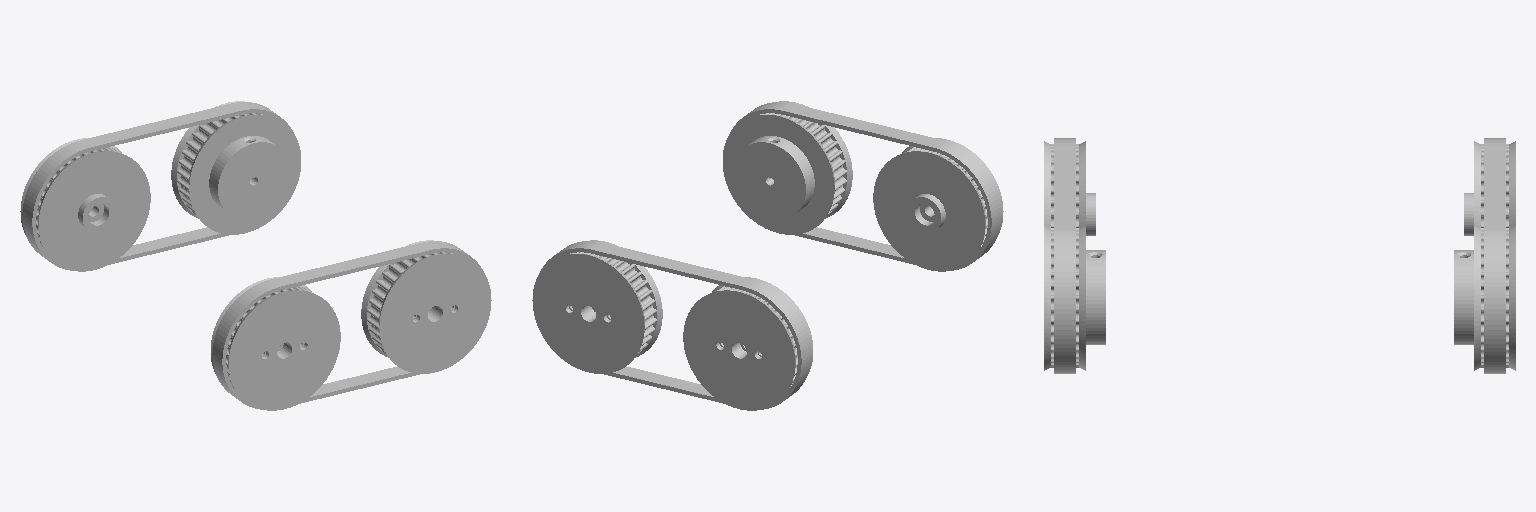
URDF robot description (road100):
<?xml version="1.0" ?>
<robot name="road100" xmlns:xacro="http://www.ros.org/wiki/xacro">

  <link name="base_footprint" />

  <link name="base_link">
    <inertial>
      <origin xyz="0.0 0.0 0.0" rpy="0 0 0"/>
      <mass value="2.9675633650363595"/>
      <inertia ixx="0.011642" iyy="0.035651" izz="0.038255" ixy="0.000148" iyz="-9.3e-05" ixz="0.000342"/>
    </inertial>
    <visual>
      <origin xyz="0 0 0" rpy="0 0 0"/>
      <geometry>
        <mesh filename="package://road100_description/meshes/base_link_lidar.stl" scale="0.001 0.001 0.001"/>
      </geometry>
      <material name="yellow">
        <color rgba="1 1 0 1"/>
      </material>
    </visual>
    <collision>
      <origin xyz="0 0 0" rpy="0 0 0"/>
      <geometry>
        <mesh filename="package://road100_description/meshes/base_link_lidar.stl" scale="0.001 0.001 0.001"/>
      </geometry>
    </collision>
  </link>

  <joint name="base_footprint_joint" type="fixed">
    <parent link="base_footprint"/>
    <child link="base_link"/>
    <origin xyz="0 0 0" rpy="0 0 0"/>
  </joint>

  <link name="left_wheel_set">
    <visual>
      <origin xyz="0 0 0" rpy="0 0 0"/>
      <geometry>
        <mesh filename="package://road100_description/meshes/left_wheel_set.stl" scale="0.001 0.001 0.001"/>
      </geometry>
      <material name="gray">
        <color rgba="0.8 0.8 0.8 0.9"/>
      </material>
    </visual>
  </link>

  <joint name="left_wheel_set_joint" type="fixed">
    <parent link="base_link"/>
    <child link="left_wheel_set"/>
    <origin xyz="0 0 0" rpy="0 0 0"/>
  </joint>

  <link name="right_wheel_set">
    <visual>
      <origin xyz="0 0 0" rpy="0 0 0"/>
      <geometry>
        <mesh filename="package://road100_description/meshes/right_wheel_set.stl" scale="0.001 0.001 0.001"/>
      </geometry>
      <material name="gray">
        <color rgba="0.8 0.8 0.8 0.9"/>
      </material>
    </visual>
  </link>

  <joint name="right_wheel_set_joint" type="fixed">
    <parent link="base_link"/>
    <child link="right_wheel_set"/>
    <origin xyz="0 0 0" rpy="0 0 0"/>
  </joint>


  <link name="left_front_wheel">
    <inertial>
      <origin xyz="0 0 0" rpy="0 1.5707 1.5707"/>
      <mass value="0.1"/>
      <inertia ixx="0.000025" ixy="0" ixz="0" iyy="0.000025" iyz="0" izz="0.000045"/>
    </inertial>
    <collision>
      <origin xyz="0 0 0" rpy="0 1.5707 1.5707"/>
      <geometry>
        <cylinder length="0.0165" radius="0.03"/>
      </geometry>
    </collision>
  </link>
  <joint name="left_front_wheel_joint" type="continuous">
    <parent link="base_link"/>
    <child link="left_front_wheel"/>
    <origin xyz="0.0395 0.08 0" rpy="0 0 0"/>
    <axis xyz="0 1 0" />
    <limit effort="10" velocity="100" />
  </joint>

  <link name="right_front_wheel">
    <inertial>
      <origin xyz="0 0 0" rpy="0 1.5707 1.5707"/>
      <mass value="0.1"/>
      <inertia ixx="0.000025" ixy="0" ixz="0" iyy="0.000025" iyz="0" izz="0.000045"/>
    </inertial>
    <collision>
      <origin xyz="0 0 0" rpy="0 1.5707 1.5707"/>
      <geometry>
        <cylinder length="0.0165" radius="0.03"/>
      </geometry>
    </collision>
  </link>
  <joint name="right_front_wheel_joint" type="continuous">
    <parent link="base_link"/>
    <child link="right_front_wheel"/>
    <origin xyz="0.0395 -0.08 0" rpy="0 0 0"/>
    <axis xyz="0 1 0" />
    <limit effort="10" velocity="100" />
  </joint>

  <link name="left_rear_wheel">
    <inertial>
      <origin xyz="0 0 0" rpy="0 1.5707 1.5707"/>
      <mass value="0.1"/>
      <inertia ixx="0.000025" ixy="0" ixz="0" iyy="0.000025" iyz="0" izz="0.000045"/>
    </inertial>
    <collision>
      <origin xyz="0 0 0" rpy="0 1.5707 1.5707"/>
      <geometry>
        <cylinder length="0.0165" radius="0.03"/>
      </geometry>
    </collision>
  </link>
  <joint name="left_rear_wheel_joint" type="continuous">
    <parent link="base_link"/>
    <child link="left_rear_wheel"/>
    <origin xyz="-0.0395 0.08 0" rpy="0 0 0"/>
    <axis xyz="0 1 0" />
    <limit effort="10" velocity="100" />
  </joint>

  <link name="right_rear_wheel">
    <inertial>
      <origin xyz="0 0 0" rpy="0 1.5707 1.5707"/>
      <mass value="0.1"/>
      <inertia ixx="0.000025" ixy="0" ixz="0" iyy="0.000025" iyz="0" izz="0.000045"/>
    </inertial>
    <collision>
      <origin xyz="0 0 0" rpy="0 1.5707 1.5707"/>
      <geometry>
        <cylinder length="0.0165" radius="0.03"/>
      </geometry>
    </collision>
  </link>
  <joint name="right_rear_wheel_joint" type="continuous">
    <parent link="base_link"/>
    <child link="right_rear_wheel"/>
    <origin xyz="-0.0395 -0.08 0" rpy="0 0 0"/>
    <axis xyz="0 1 0" />
    <limit effort="10" velocity="100" />
  </joint>

  <link name="lidar_link">
    <inertial>
      <mass value="0.01"/>
      <inertia ixx="0.00004" ixy="0" ixz="0" iyy="0.00004" iyz="0" izz="0.00004"/>
    </inertial>
    <collision>
      <origin rpy="0 0 0" xyz="0 0 0"/>
      <geometry>
        <sphere radius="0.01"/>
      </geometry>
    </collision>
  </link>
  <joint name="lidar_joint" type="fixed">
    <origin xyz="0 0 0.083" rpy="0 0 0"/>
    <parent link="base_link"/>
    <child link="lidar_link"/>
  </joint>

  <link name="camera_link">
    <inertial>
      <mass value="0.01"/>
      <inertia ixx="0.00004" ixy="0" ixz="0" iyy="0.00004" iyz="0" izz="0.00004"/>
    </inertial>
    <collision>
      <origin rpy="0 0 0" xyz="0 0 0"/>
      <geometry>
        <sphere radius="0.01"/>
      </geometry>
    </collision>
  </link>
  <joint name="camera_joint" type="fixed">
    <origin xyz="0.08 0 0.045" rpy="0 0 0"/>
    <parent link="base_link"/>
    <child link="camera_link"/>
  </joint>

</robot>

--- What the picture shows (computed from the rendered views, not written in the file) ---
Views: 3 orthographic renders of the robot side by side, from view 1: azimuth 30°, elevation 25°; view 2: azimuth 150°, elevation 25°; view 3: azimuth 270°, elevation 25°.
Model road100 with 10 links and 9 joints (4 continuous, 5 fixed), rooted at base_footprint, posed all joints at 0.
Links seen in each view (by area): view 1: left_wheel_set, right_wheel_set; view 2: left_wheel_set, right_wheel_set; view 3: left_wheel_set, right_wheel_set.
Link boxes in pixels (x1,y1,x2,y2): left_wheel_set: (20,101,300,271); right_wheel_set: (211,240,491,410); left_wheel_set: (532,240,812,410); right_wheel_set: (723,101,1003,271); left_wheel_set: (1454,138,1515,373); right_wheel_set: (1044,138,1105,373).
Size in the robot's own frame: 0.14 by 0.189 by 0.061 metres.
2 mesh visuals loaded from 3 distinct referenced files (2 binary STL); not drawn: 1 (reference not matched to a file when rendering).